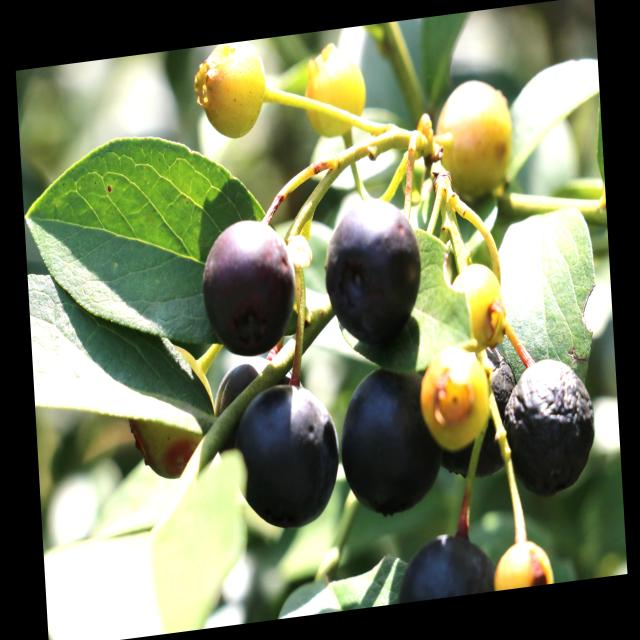blueberry: (336, 354, 444, 520), (320, 188, 429, 347), (235, 376, 344, 534), (197, 215, 299, 365), (499, 351, 598, 502), (432, 336, 516, 484), (396, 518, 501, 604)
blueberry-unripe: (430, 73, 515, 200), (416, 339, 497, 454), (193, 38, 271, 146), (300, 46, 369, 142), (446, 260, 503, 354), (492, 537, 557, 591)
